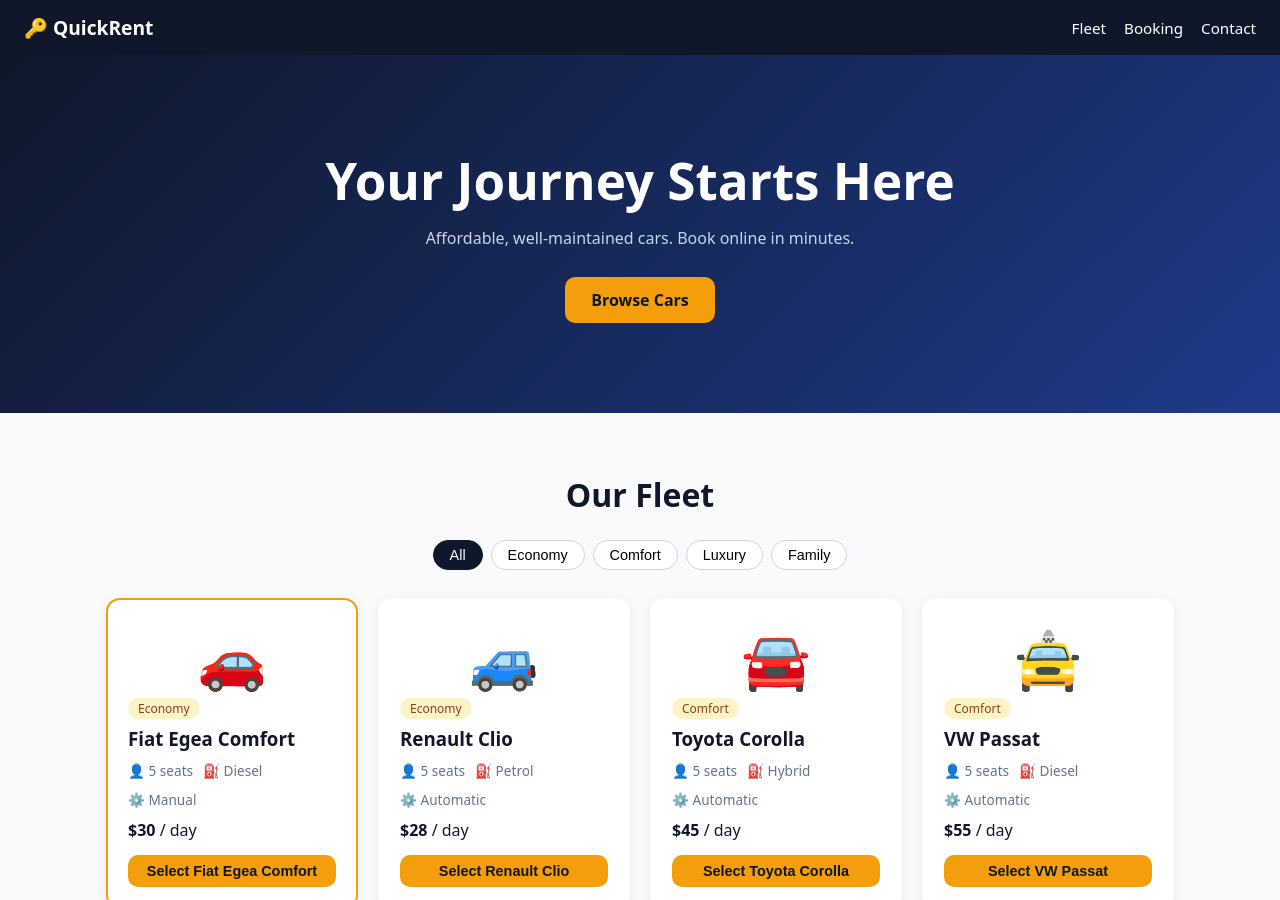
Test: Car Rental Site › calculates the total price
Click the button "Select Toyota Corolla": {"x": 776, "y": 871} left=672, top=855, right=880, bottom=887
(page scrolled)
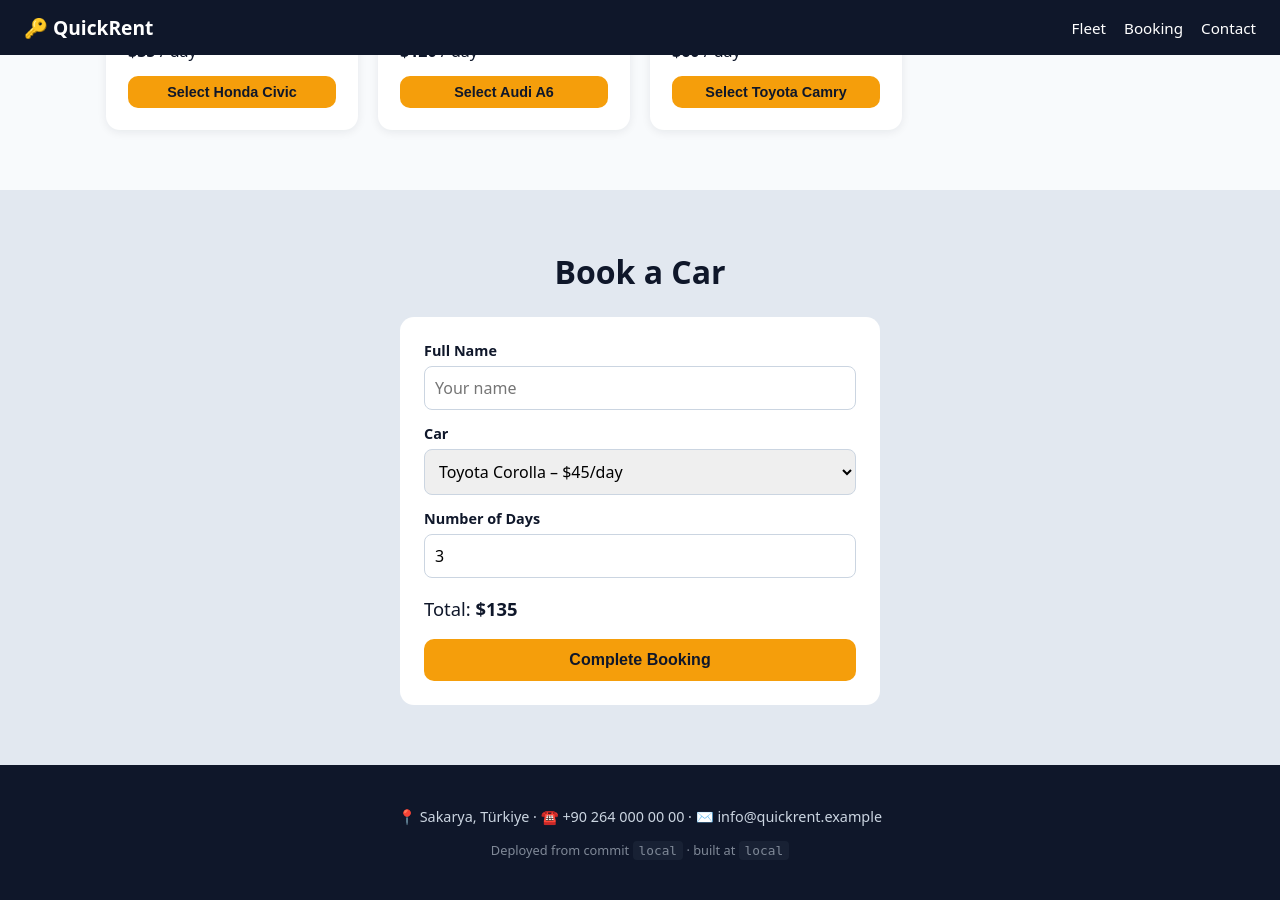
Replace the text in the number field labelled "Number of Days" with "4": {"x": 640, "y": 556} left=424, top=534, right=856, bottom=578
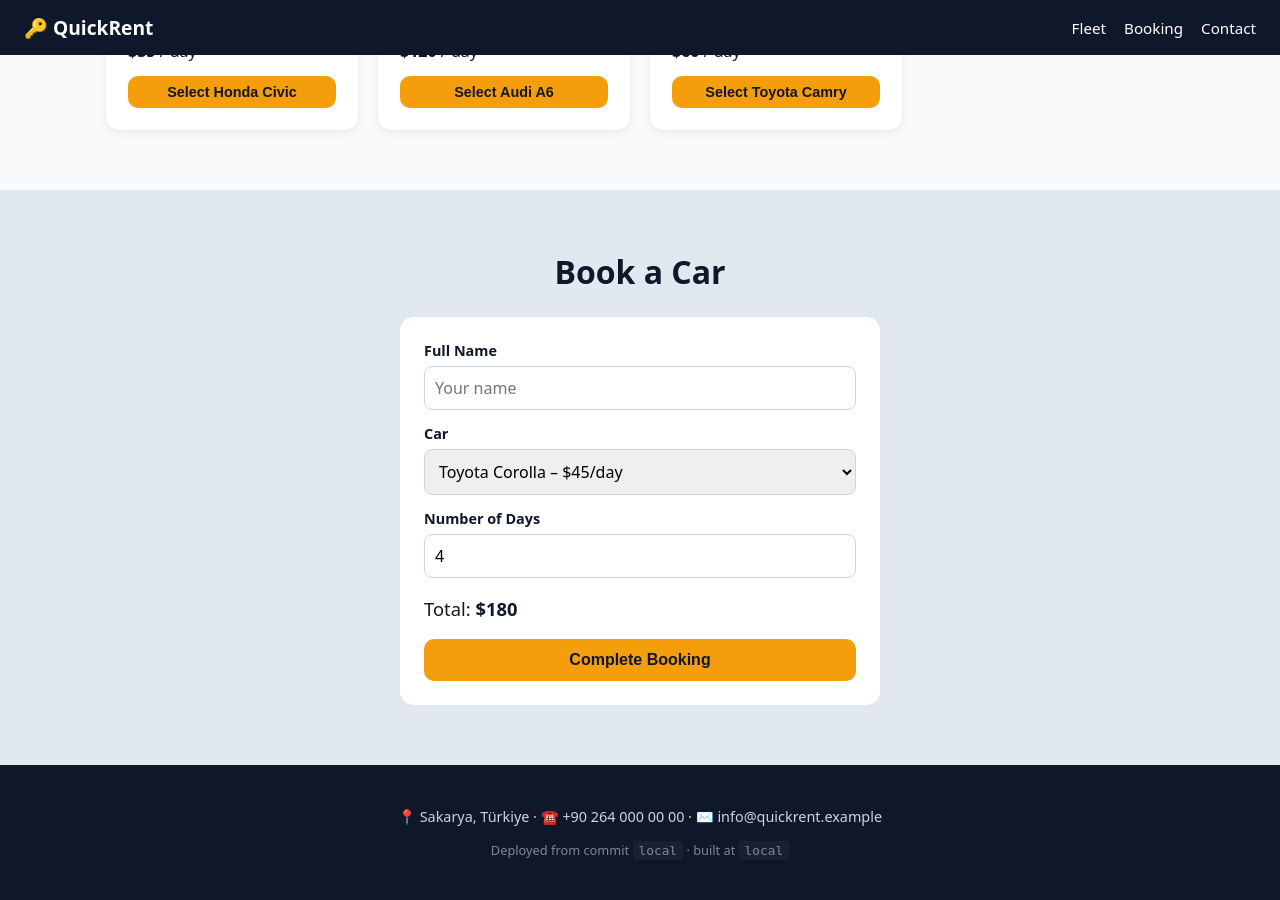
expect the text with test id "total" reads "$180": met, box left=476, top=596, right=518, bottom=621
